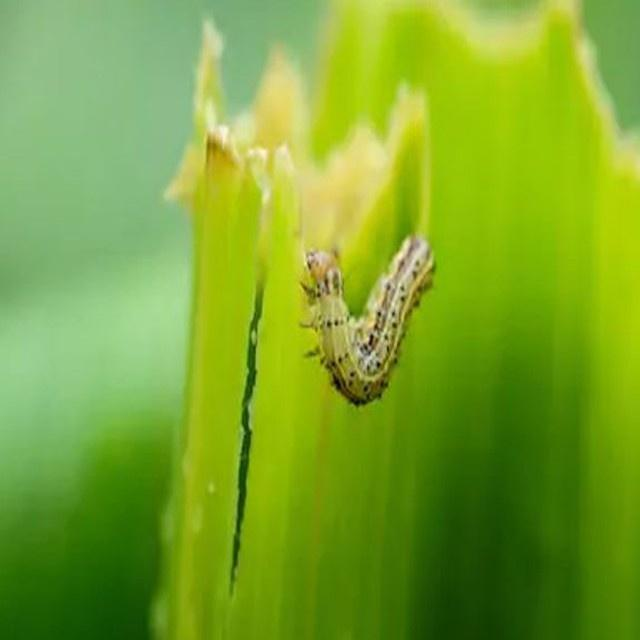gusano_cogollero: (298, 230, 440, 409)
